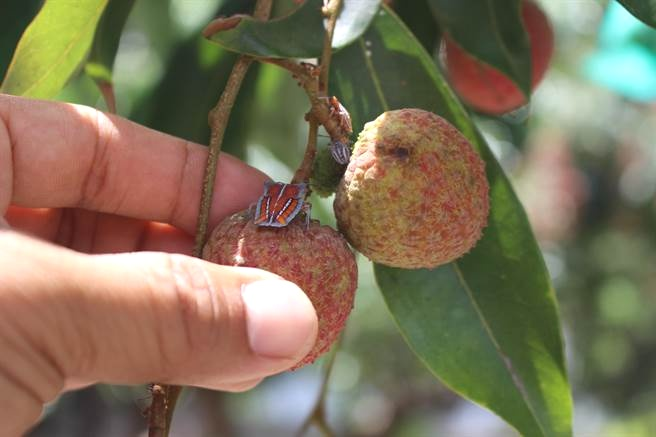Stink_Bug: (244, 161, 323, 230)
